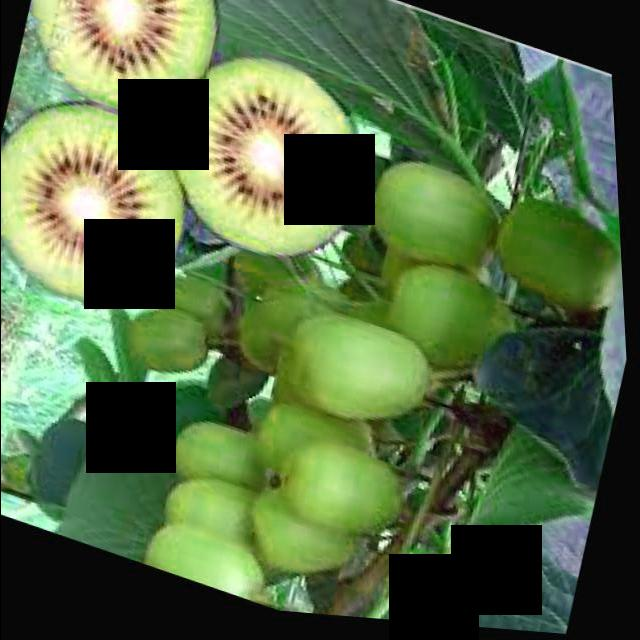kiwi: (281, 309, 444, 453), (368, 154, 523, 296), (235, 273, 377, 411), (384, 264, 533, 393), (248, 399, 392, 527), (491, 194, 628, 327), (272, 438, 417, 556), (161, 474, 294, 583), (243, 495, 370, 602), (168, 424, 299, 525), (144, 530, 277, 614), (123, 313, 225, 401), (153, 276, 246, 359)
